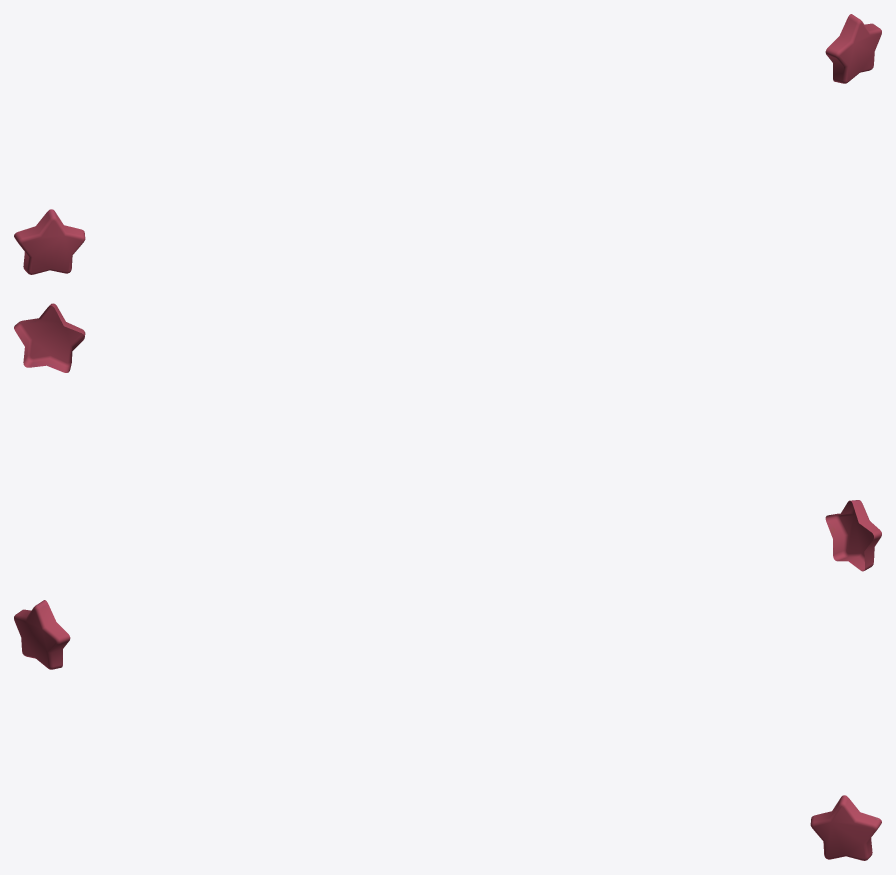
The model's file is earings9.glb.
The picture shows the model from 3 angles, top to bottom: view 1: azimuth 30°, elevation 25°; view 2: azimuth 150°, elevation 25°; view 3: azimuth 330°, elevation 25°; orthographic projection.
Visible parts, largest first — view 1: earrings.009; view 2: earrings.009; view 3: earrings.009.
Part boxes in pixels (x1,y1,x2,y2): earrings.009: (14,14,881,274); earrings.009: (14,303,881,571); earrings.009: (14,600,881,860).
Bounding box in the file's own units: 1.39 × 0.0984 × 0.0483.
1 material, 1 textured.
